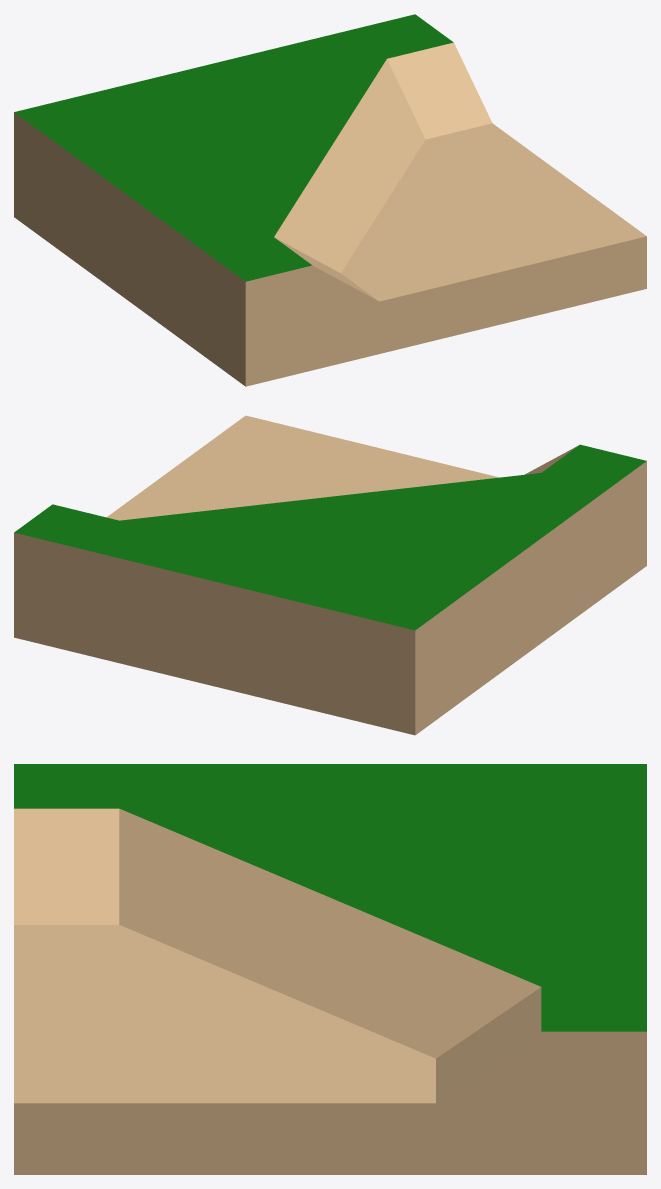
The model's file is tile_corner_1.glb.
3 renders of one model, top to bottom at view 1: azimuth 30°, elevation 25°; view 2: azimuth 150°, elevation 25°; view 3: azimuth 270°, elevation 25°, orthographic. The views are drawn at different scales.
Parts seen in each view (by area): view 1: Plane.019; view 2: Plane.019; view 3: Plane.019.
Part boxes in pixels (left/top/right/bottom): Plane.019: left=14, top=14, right=646, bottom=386; Plane.019: left=14, top=415, right=646, bottom=735; Plane.019: left=14, top=764, right=646, bottom=1174.
Size of the model in its own units: 2 by 0.5 by 2.
